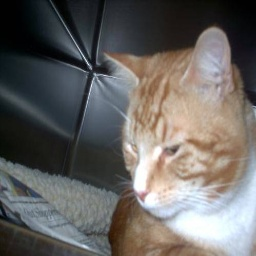cat: (104, 21, 256, 256)
